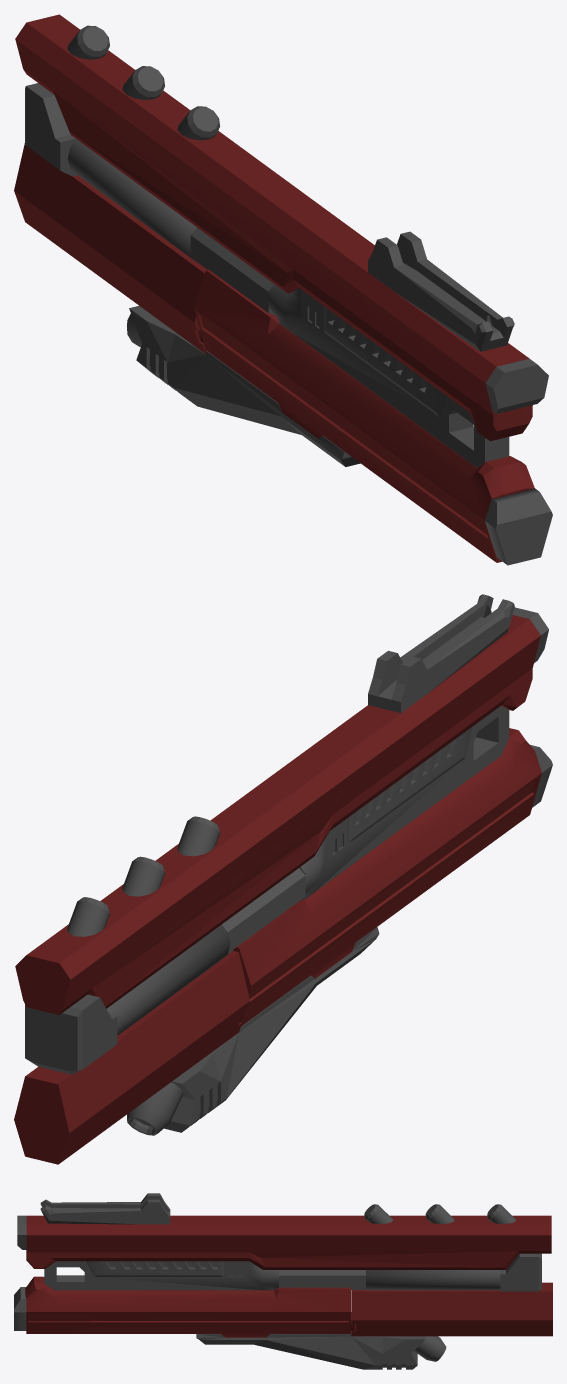
Rendered from secondaria_1.fbx.
The picture shows the model from 3 angles, top to bottom: view 1: azimuth 30°, elevation 25°; view 2: azimuth 150°, elevation 25°; view 3: azimuth 270°, elevation 25°; orthographic projection. The views are drawn at different scales.
Visible parts, largest first — view 1: body_low; view 2: body_low; view 3: body_low.
Boxes of the visible parts, x1,y1,x2,y2 form: body_low: (14, 14, 552, 565); body_low: (14, 594, 552, 1164); body_low: (14, 1193, 552, 1369).
Size of the model in its own units: 60.03 by 302 by 877.
